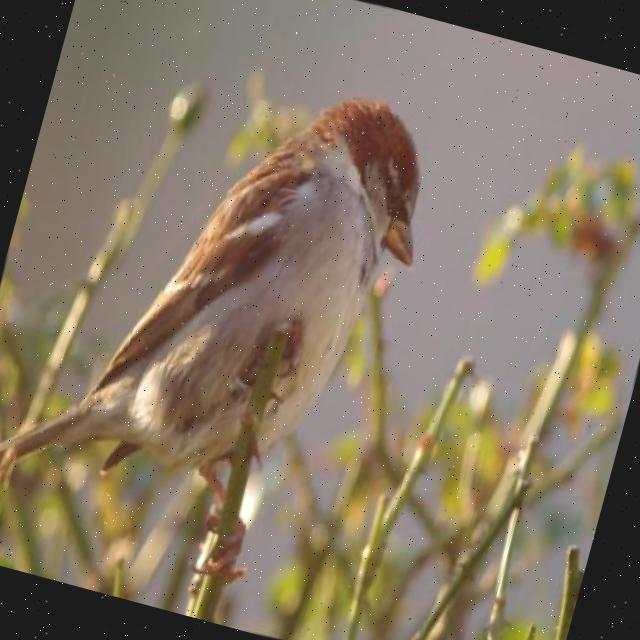sparrow: (0, 12, 463, 575)
